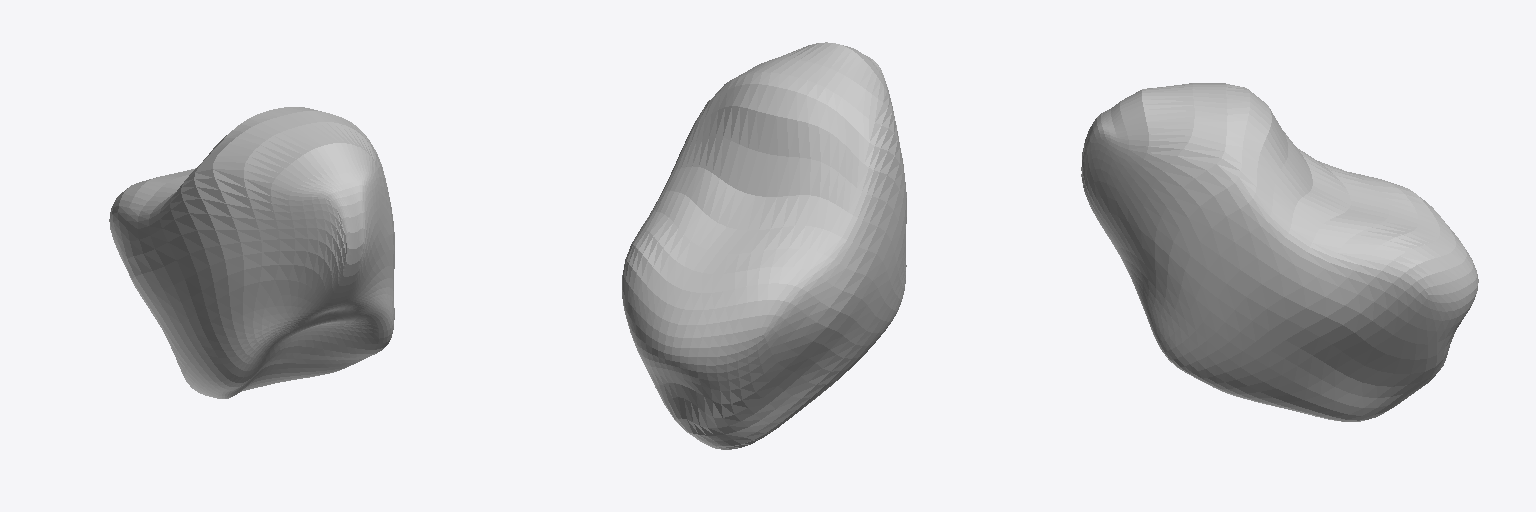
The model's file is vertabrae19.obj.
The picture shows the model from 3 angles: view 1: azimuth 30°, elevation 25°; view 2: azimuth 150°, elevation 25°; view 3: azimuth 270°, elevation 25°; orthographic projection.
Parts seen in each view (by area): view 1: Cube.127_Cube.128; view 2: Cube.127_Cube.128; view 3: Cube.127_Cube.128.
Part boxes in pixels (left/top/right/bottom): Cube.127_Cube.128: left=109, top=107, right=394, bottom=398; Cube.127_Cube.128: left=622, top=42, right=906, bottom=449; Cube.127_Cube.128: left=1081, top=83, right=1478, bottom=421.
Bounding box in the file's own units: 0.0909 × 0.1397 × 0.1555.